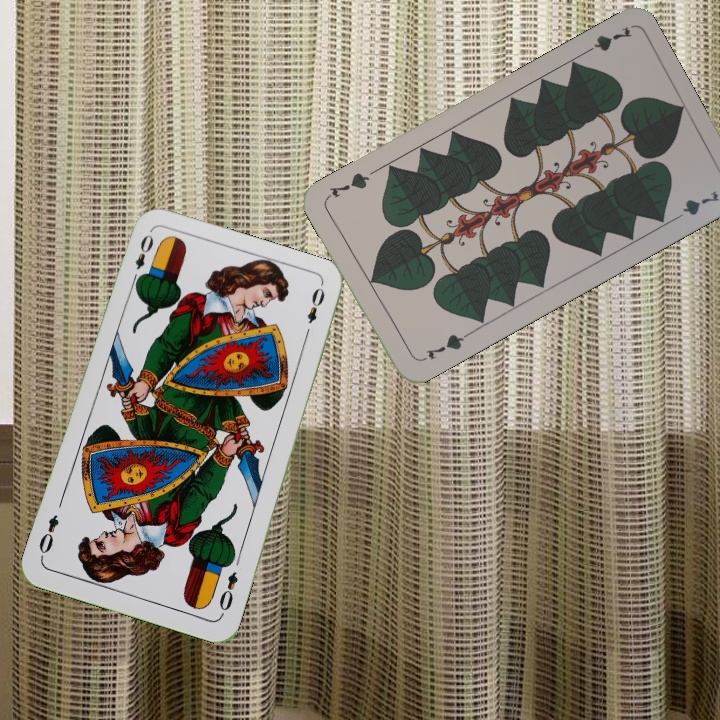EO: (127, 230, 156, 287), (215, 567, 241, 619)
G7: (577, 22, 634, 59), (415, 329, 470, 365)
